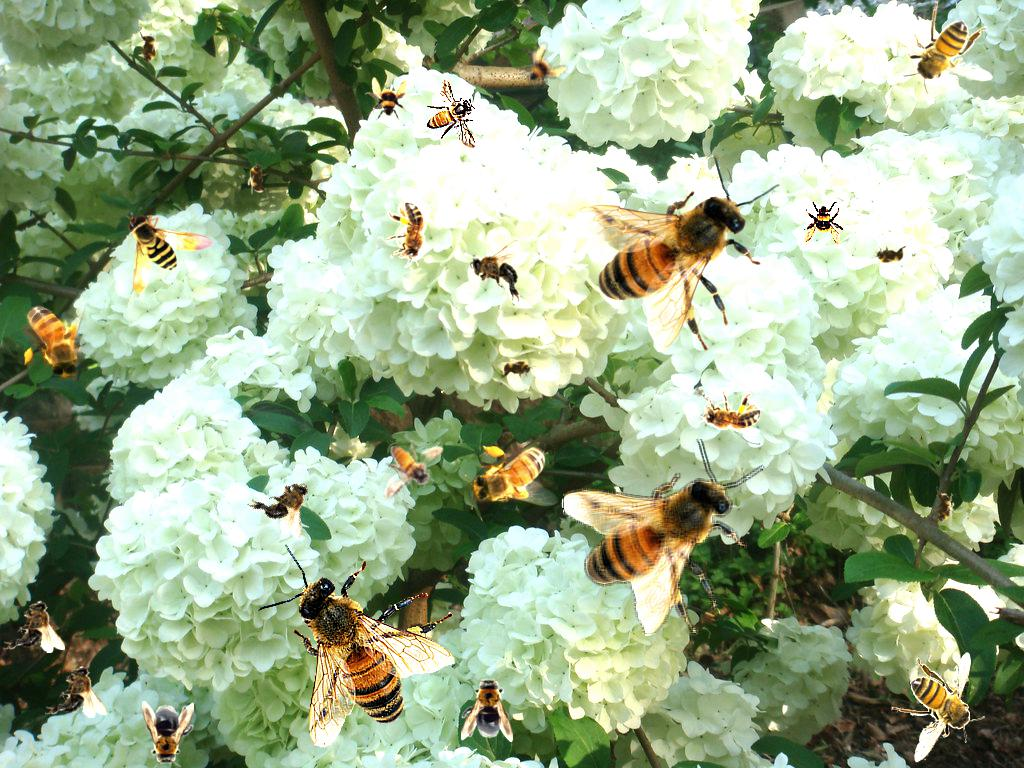Bee: (572, 151, 781, 355), (256, 544, 455, 748), (561, 437, 765, 636), (891, 652, 985, 763), (882, 1, 993, 95), (126, 212, 214, 294), (17, 291, 91, 388), (244, 463, 327, 543), (465, 442, 558, 510), (370, 430, 454, 501), (508, 36, 572, 100), (426, 78, 476, 149), (461, 674, 513, 742), (142, 701, 194, 768), (470, 240, 523, 302), (3, 600, 65, 653), (45, 665, 107, 718), (386, 202, 431, 268), (695, 391, 761, 436), (803, 201, 847, 245), (365, 77, 409, 121), (928, 486, 958, 530), (135, 28, 161, 70), (870, 244, 910, 266), (497, 358, 537, 380), (247, 158, 269, 198)
